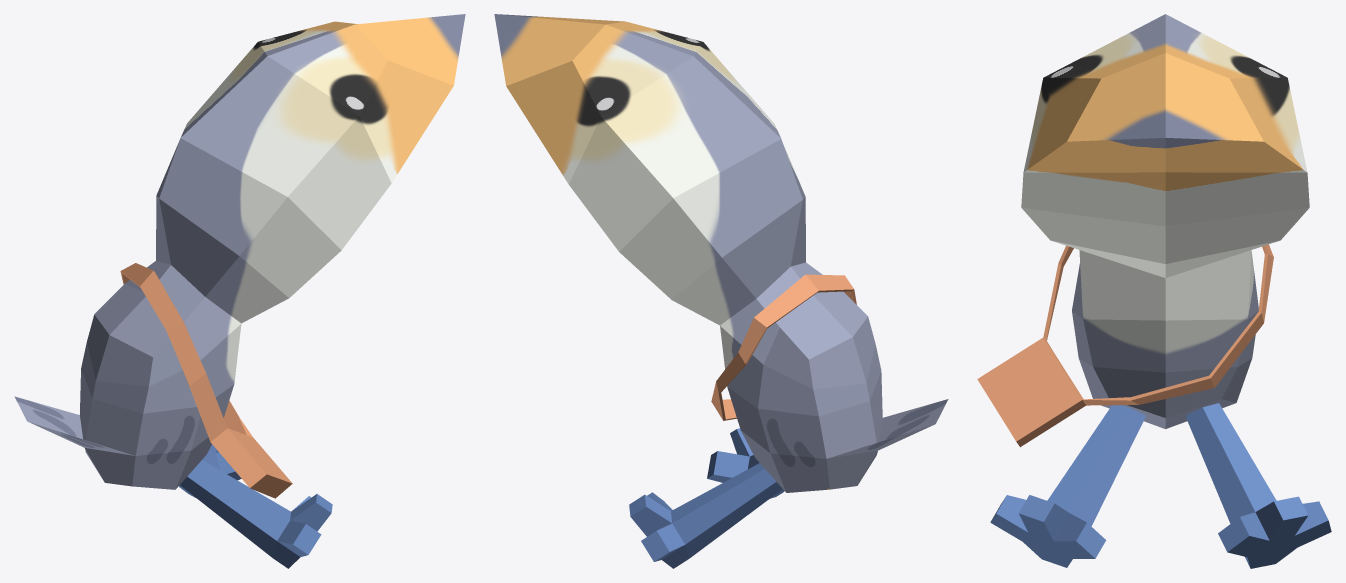
File: Char_Bird4.fbx
The picture shows the model from 3 angles, left to right: view 1: azimuth 30°, elevation 25°; view 2: azimuth 150°, elevation 25°; view 3: azimuth 270°, elevation 25°; orthographic projection. The views are drawn at different scales.
Visible parts, largest first — view 1: 立方体.004, 平面, 柱体.001; view 2: 立方体.004, 柱体, 平面, 柱体.001; view 3: 立方体.004, 柱体, 平面, 柱体.001.
Boxes of the visible parts, x1,y1,x2,y2 form: 立方体.004: (14,14,465,489); 平面: (120,263,292,498); 柱体.001: (180,460,332,568); 立方体.004: (494,14,948,492); 柱体: (629,463,782,568); 平面: (711,274,856,420); 柱体.001: (707,428,784,498); 立方体.004: (1021,14,1309,429); 柱体: (1186,403,1331,568); 平面: (977,244,1273,447); 柱体.001: (990,405,1145,567).
Size of the model in its own units: 286 by 299 by 166.
3 materials, 1 textured.
